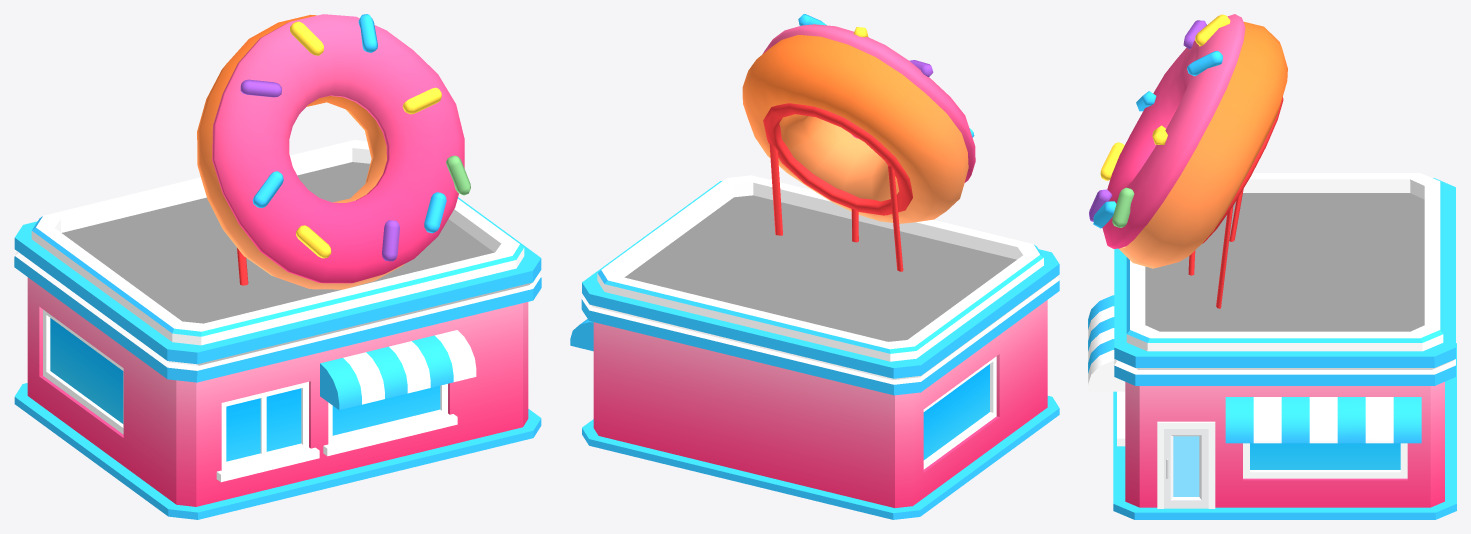
File: city2-building-snack-07.glb
3 views of the same model, side by side, from view 1: azimuth 30°, elevation 25°; view 2: azimuth 150°, elevation 25°; view 3: azimuth 270°, elevation 25° (orthographic). The views are drawn at different scales.
Visible parts, largest first — view 1: Building_Snack_07; view 2: Building_Snack_07; view 3: Building_Snack_07.
Boxes of the visible parts, x1,y1,x2,y2 form: Building_Snack_07: (14, 14, 541, 519); Building_Snack_07: (570, 14, 1059, 519); Building_Snack_07: (1088, 14, 1456, 519).
Bounding box in the file's own units: 10.86 × 11.02 × 9.
1 material, 1 textured.
